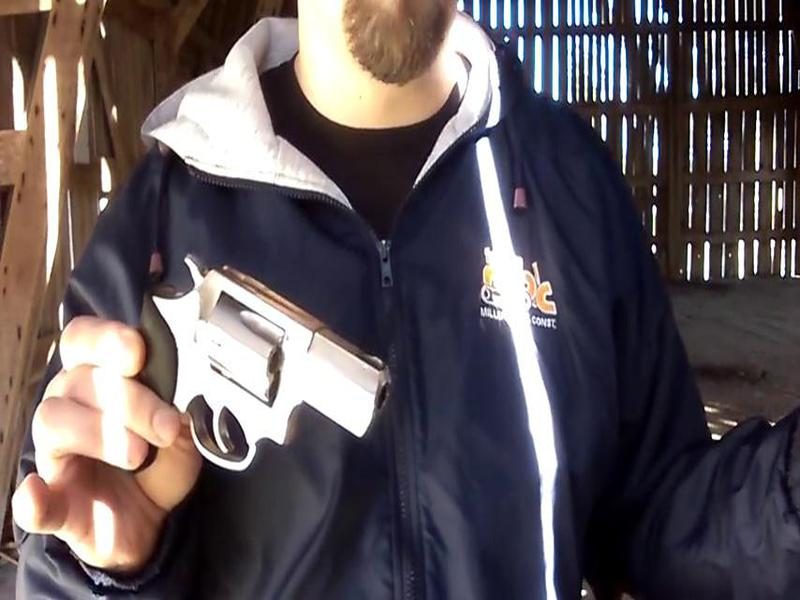Revolver: (91, 240, 397, 475)
